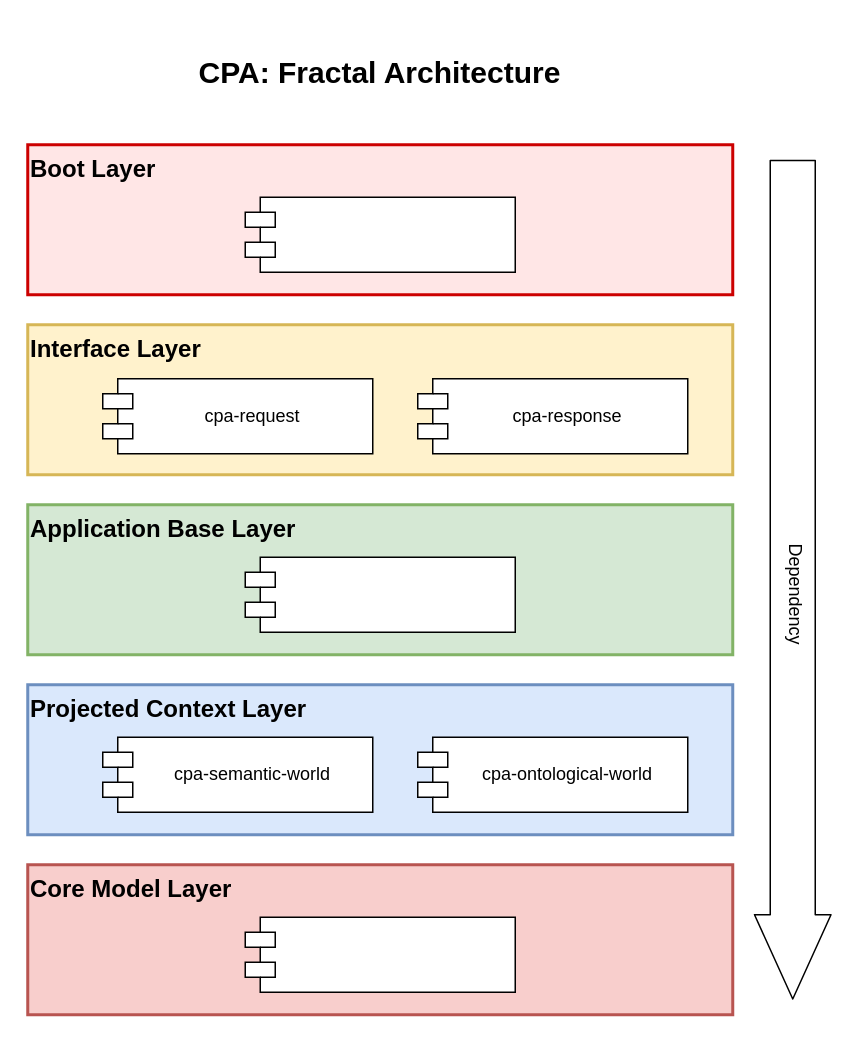
This 857x1041 diagram has some shape labels left out. Each missing label, with the centre of its shape:
cpa-bootstrap: point 379,234
cpa-fractal-app: point 379,594
cpa-multiverse: point 379,954
